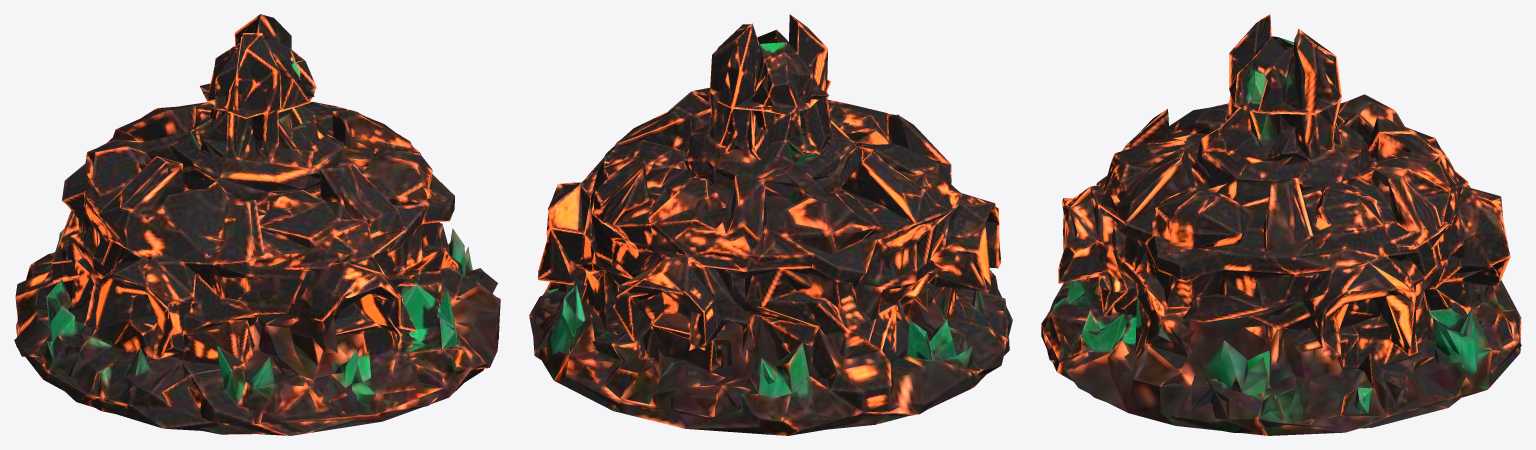
Rendered from core-exchange.glb.
3 renders of one model, left to right at view 1: azimuth 30°, elevation 25°; view 2: azimuth 150°, elevation 25°; view 3: azimuth 270°, elevation 25°, orthographic.
Visible parts, largest first — view 1: Mesh_0; view 2: Mesh_0; view 3: Mesh_0.
Boxes of the visible parts, bbox=[...] form: Mesh_0: bbox=[14, 14, 500, 435]; Mesh_0: bbox=[529, 14, 1012, 435]; Mesh_0: bbox=[1041, 14, 1521, 435].
Bounding box in the file's own units: 5.73 × 4 × 5.6.
Materials: 1 (1 with a texture image).
